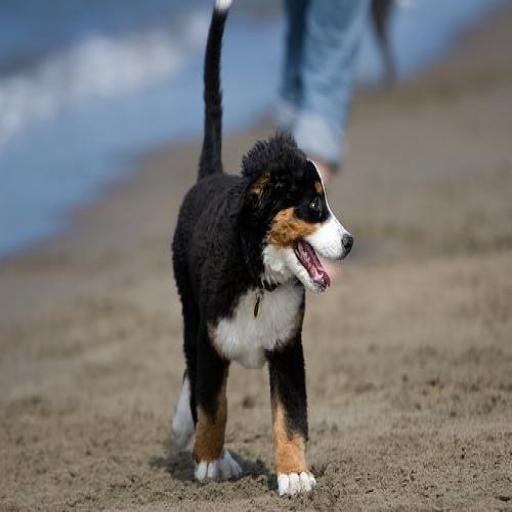dog_face: (239, 139, 355, 296)
